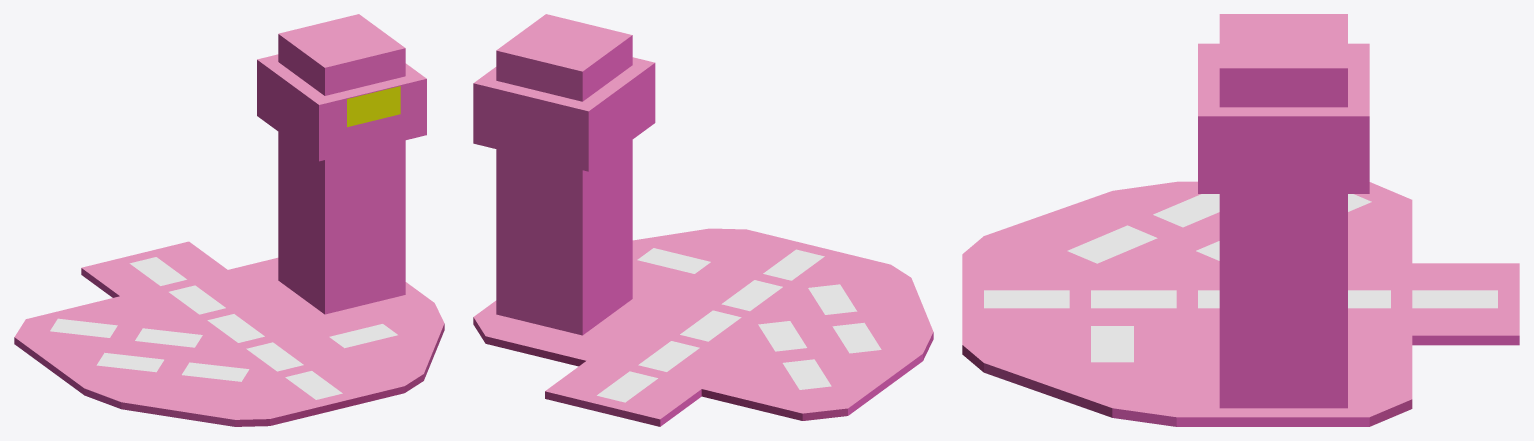
File: Airport.PinkCosmos.glb
3 renders of one model, left to right at view 1: azimuth 30°, elevation 25°; view 2: azimuth 150°, elevation 25°; view 3: azimuth 270°, elevation 25°, orthographic. The views are drawn at different scales.
Visible parts, largest first — view 1: Airport.PinkCosmos; view 2: Airport.PinkCosmos; view 3: Airport.PinkCosmos.
Boxes of the visible parts, <box> form: Airport.PinkCosmos: <box>14,14,444,426</box>; Airport.PinkCosmos: <box>473,14,933,426</box>; Airport.PinkCosmos: <box>962,14,1519,426</box>.
Size of the model in its own units: 2.6 by 1.8 by 2.6.
Materials: 2 (1 with a texture image).
